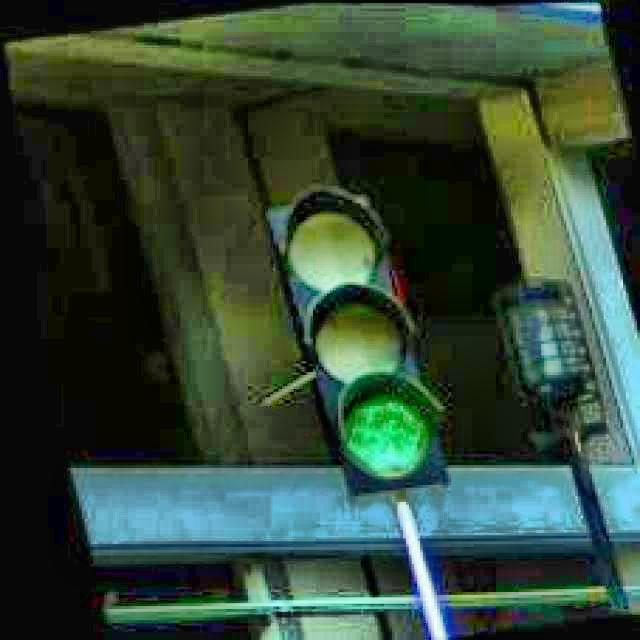green: (283, 195, 452, 496)
